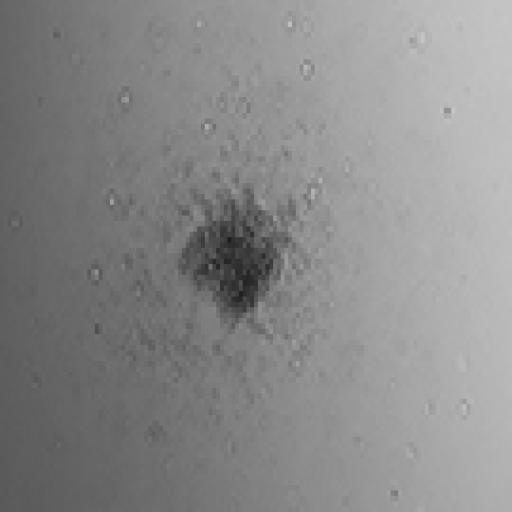CFU-GM: (180, 186, 290, 326)
